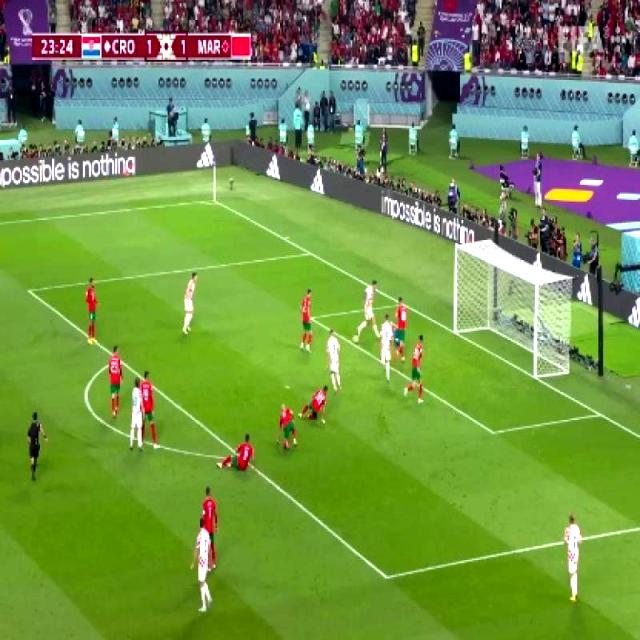bigarea_bottom_inner: (376, 562, 398, 592)
bigarea_top_inner: (22, 284, 36, 298)
bigarea_top_outter: (304, 246, 316, 259)
bottom_arc_area_intersection: (223, 442, 259, 472)
corner: (206, 198, 217, 205)
smallarea_bottom_inner: (484, 419, 502, 444)
smallarea_bottom_outter: (591, 405, 606, 423)
smallarea_top_inner: (306, 312, 316, 325)
smallarea_top_outter: (398, 297, 408, 311)
top_arc_area_intersection: (99, 341, 134, 377)
